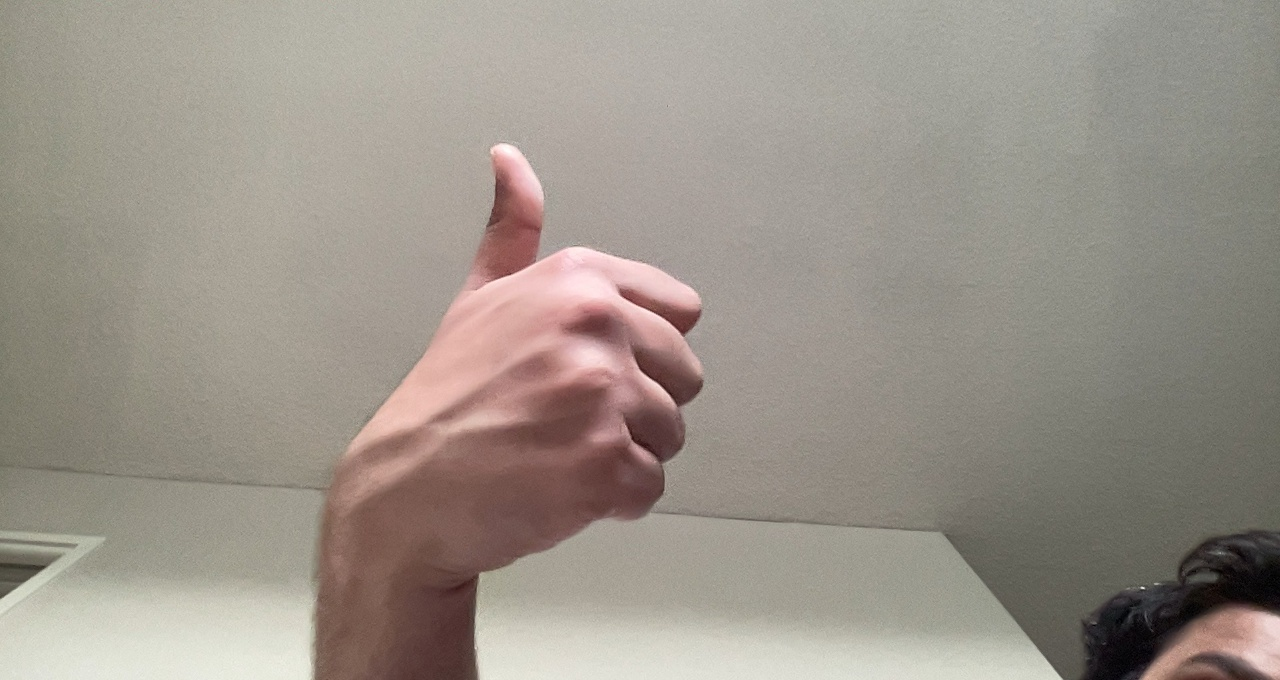thumbsup: (370, 136, 708, 558)
